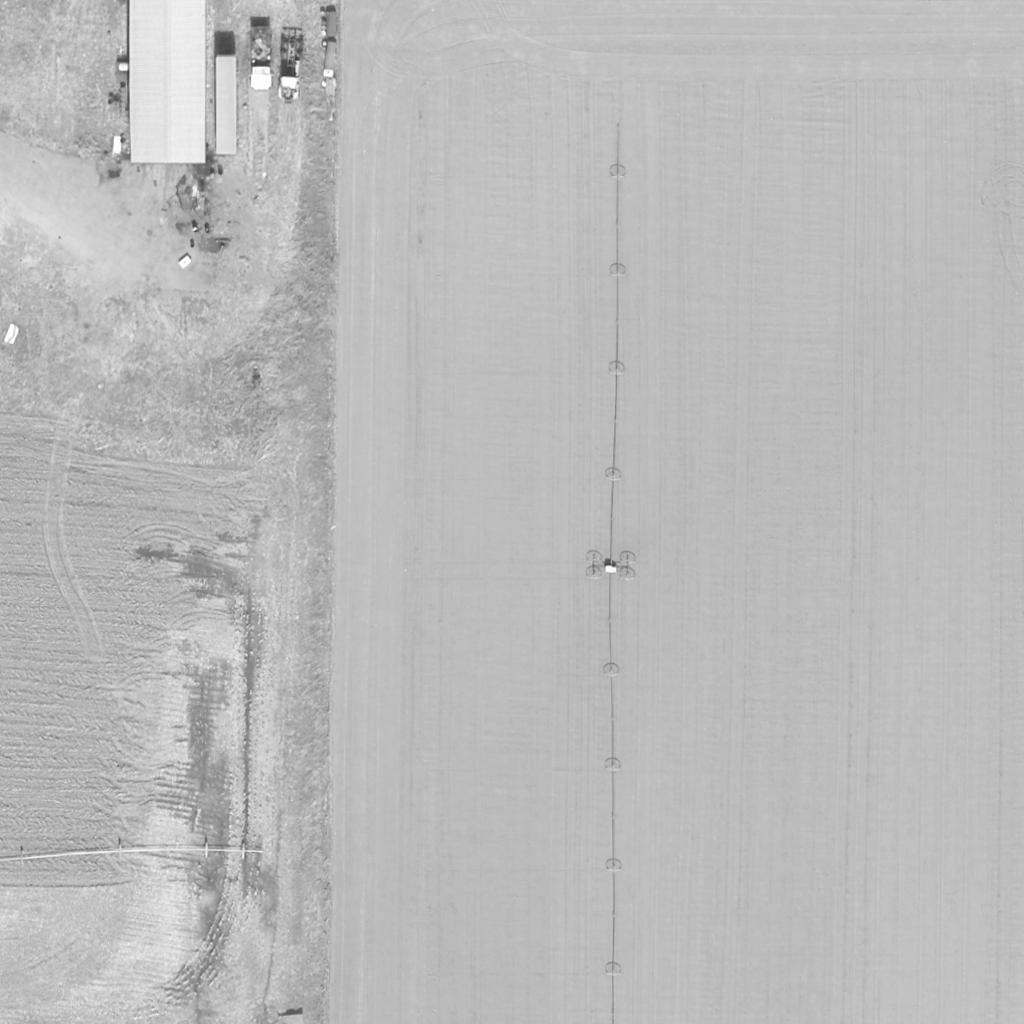vehicle: (276, 27, 308, 103), (247, 18, 275, 92)
